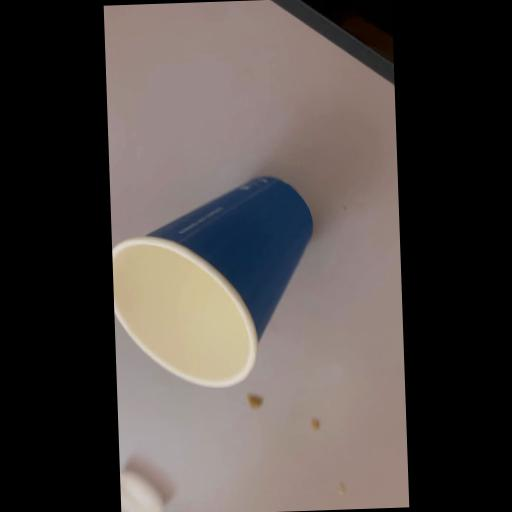lp_paper_cup: (108, 164, 320, 392)
